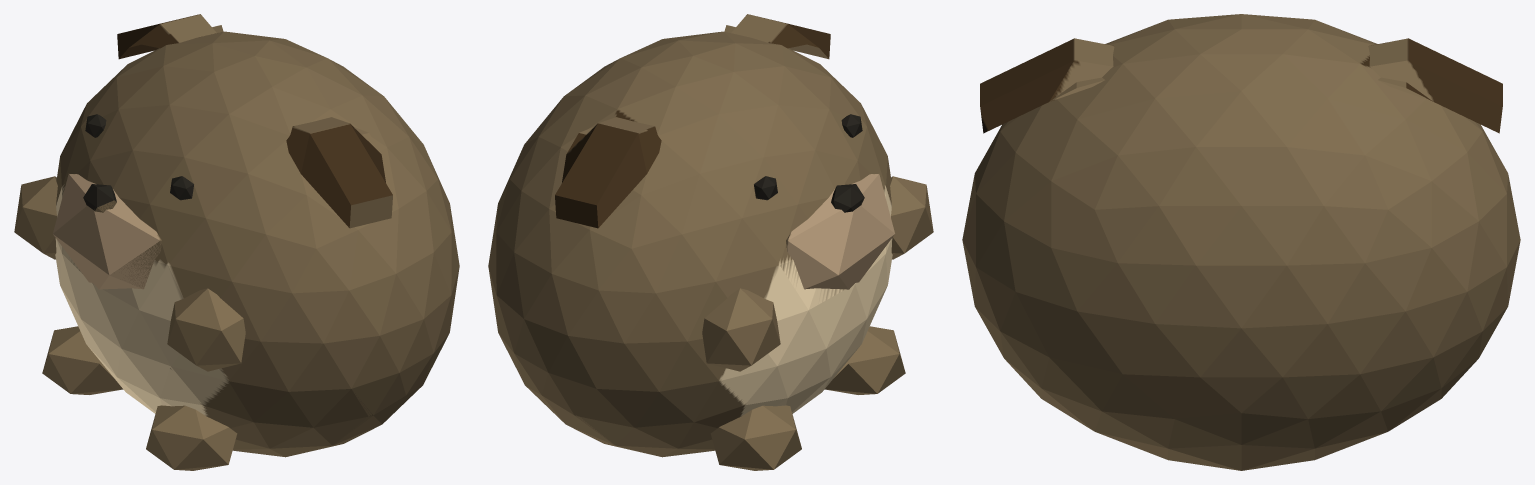
3 renders of one model, left to right at view 1: azimuth 30°, elevation 25°; view 2: azimuth 150°, elevation 25°; view 3: azimuth 270°, elevation 25°, orthographic. The views are drawn at different scales.
Parts seen in each view (by area): view 1: body; view 2: body; view 3: body.
Part boxes in pixels (x1=…): body: x1=14, y1=14, x2=459, y2=470; body: x1=488, y1=14, x2=933, y2=470; body: x1=962, y1=14, x2=1520, y2=470.
Size of the model in its own units: 0.6967 by 0.7462 by 0.897.
1 material, 1 textured.
